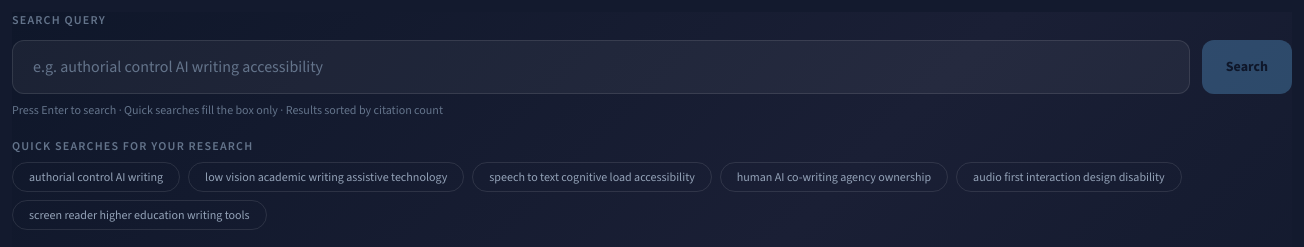
Test: SearchBar › fills the input from a quick search without submitting
This screenshot has width=1304, height=247.
What coordinates should you click on to do the following:
click the list item with aria-label "quick search: authorial control ai writing"
I would click on:
 (96, 177)
Its box is [12,162,180,192].
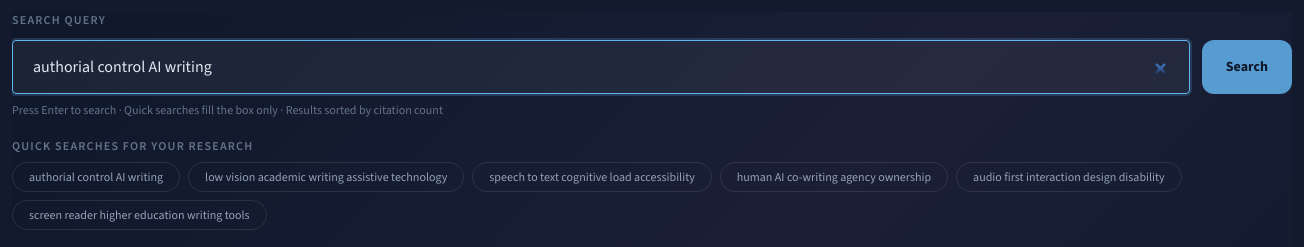
Now the search field named "enter your research search query" holds "authorial control AI writing", box [12,40,1190,94]
